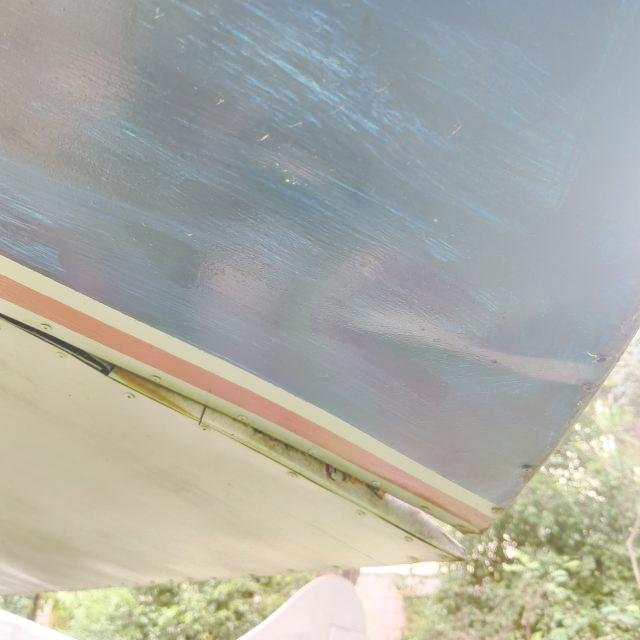dent: (303, 258, 633, 433)
